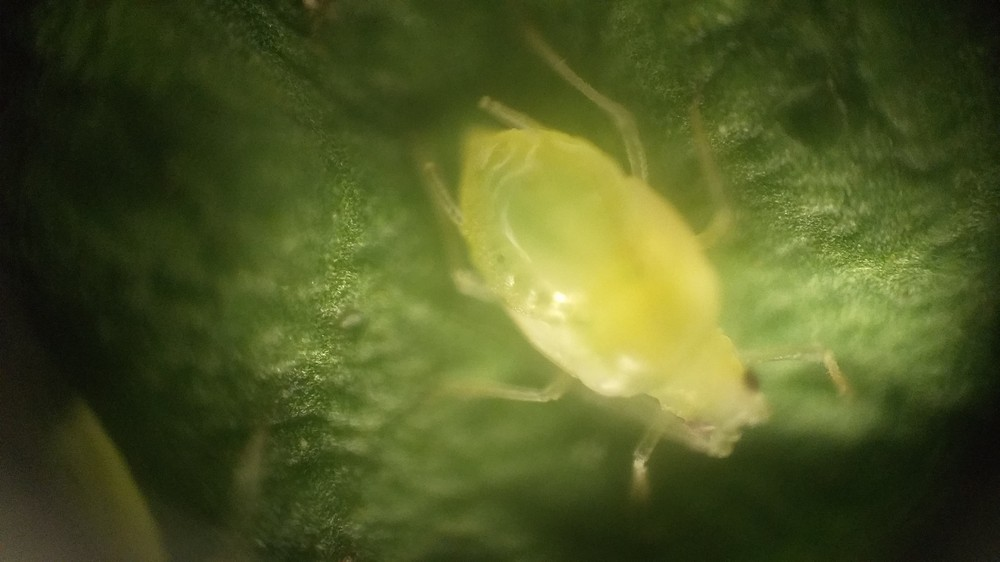Pulgon: (391, 31, 897, 542)
